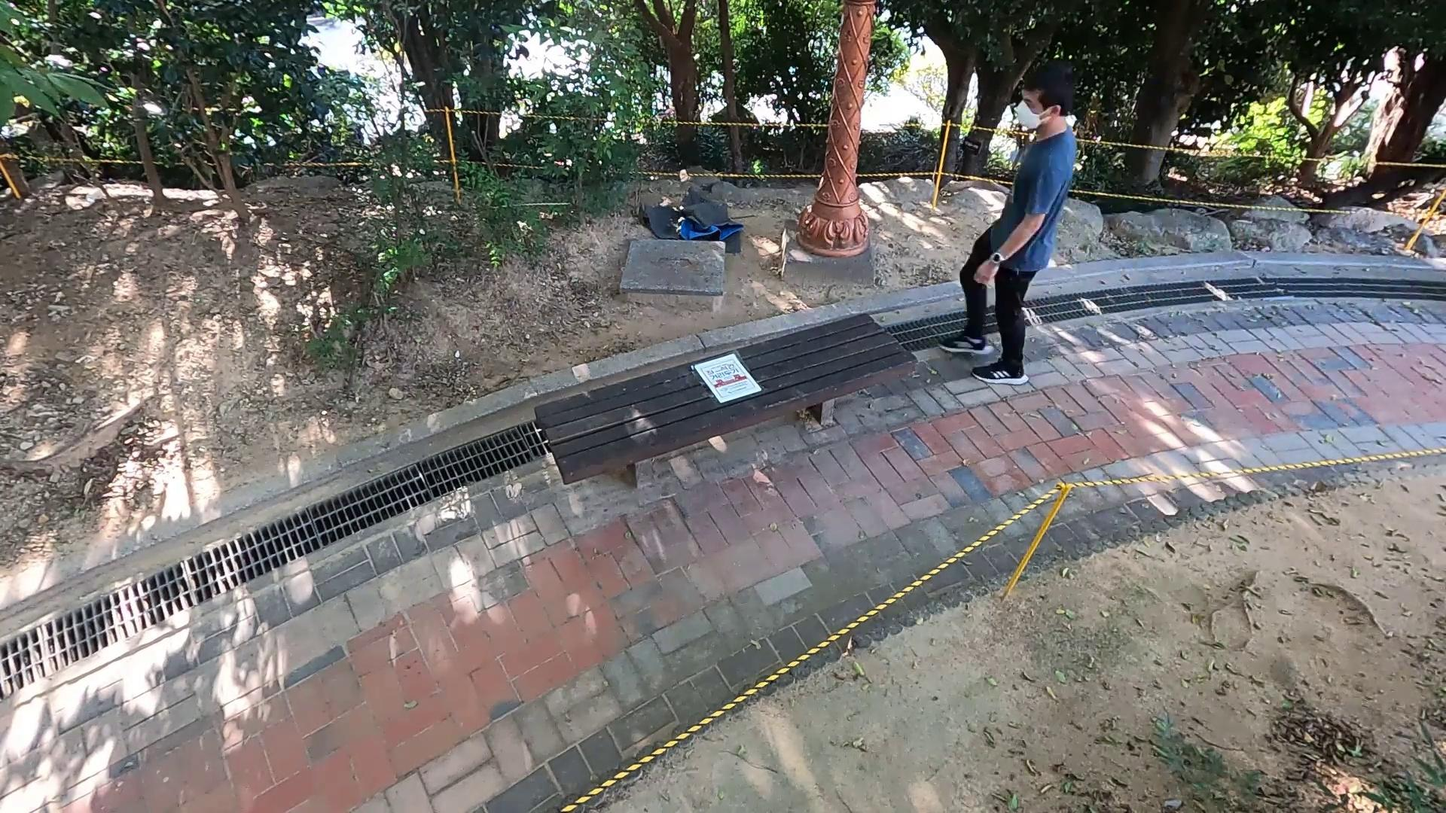person: (946, 62, 1093, 389)
trash: (635, 181, 739, 257)
